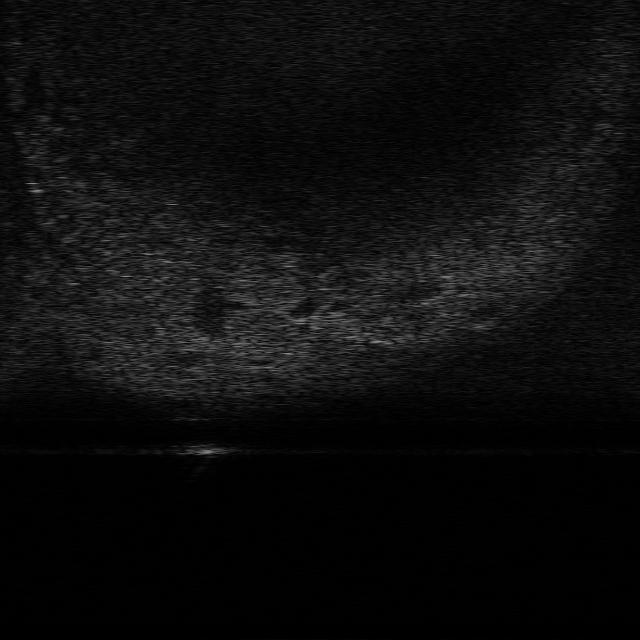cube: (178, 435, 236, 463)
